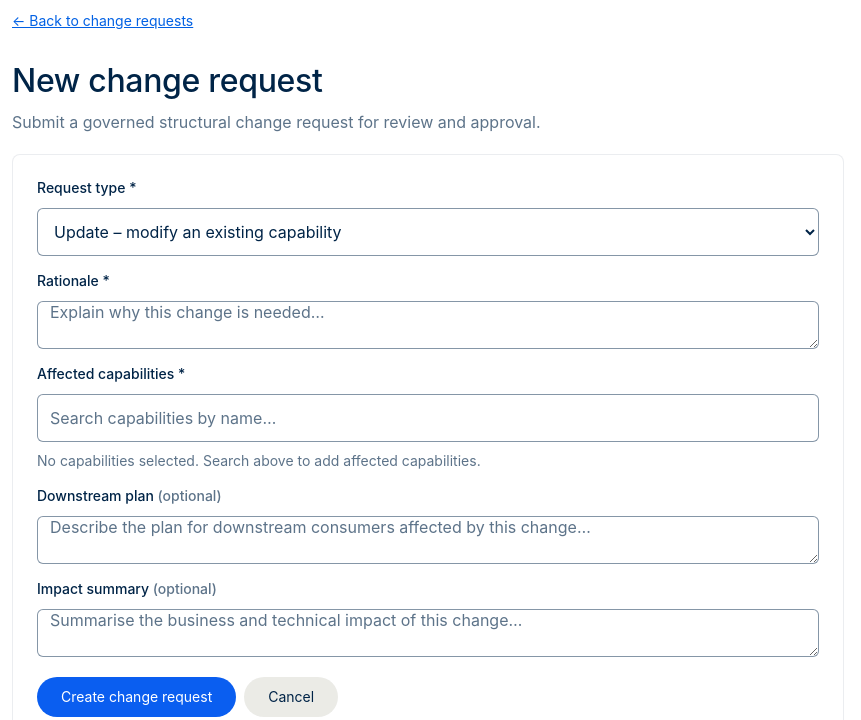
ChangeRequestFormPage › shows validation error when submitting without any selected capabilities
Type "Test rationale" into the text box labelled "Rationale *".
click(428, 325); type("Test rationale")  # box [37,301,819,349]
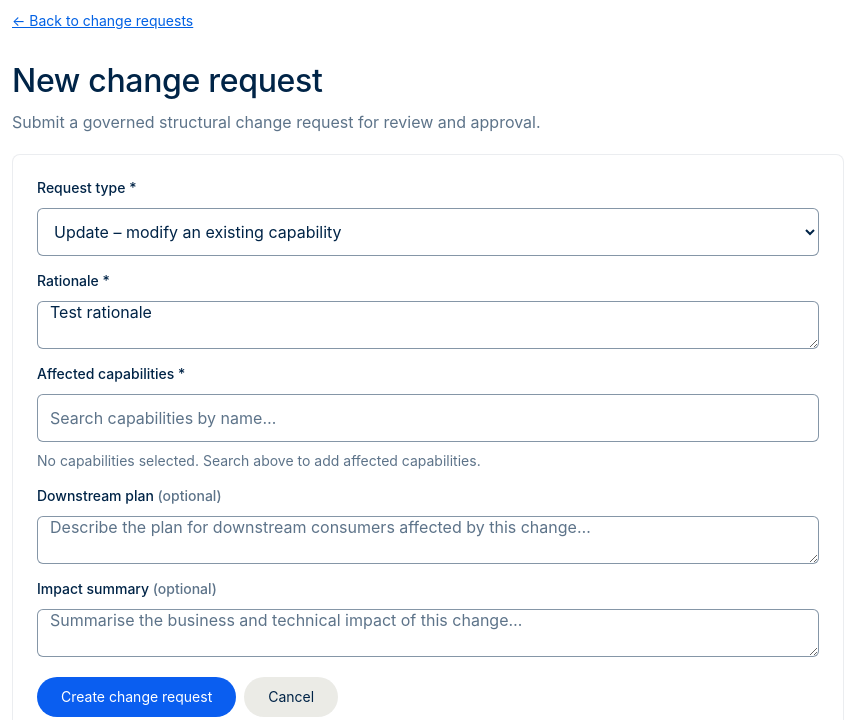
Click the button "Create change request".
click(137, 697)  # box [37,677,236,717]
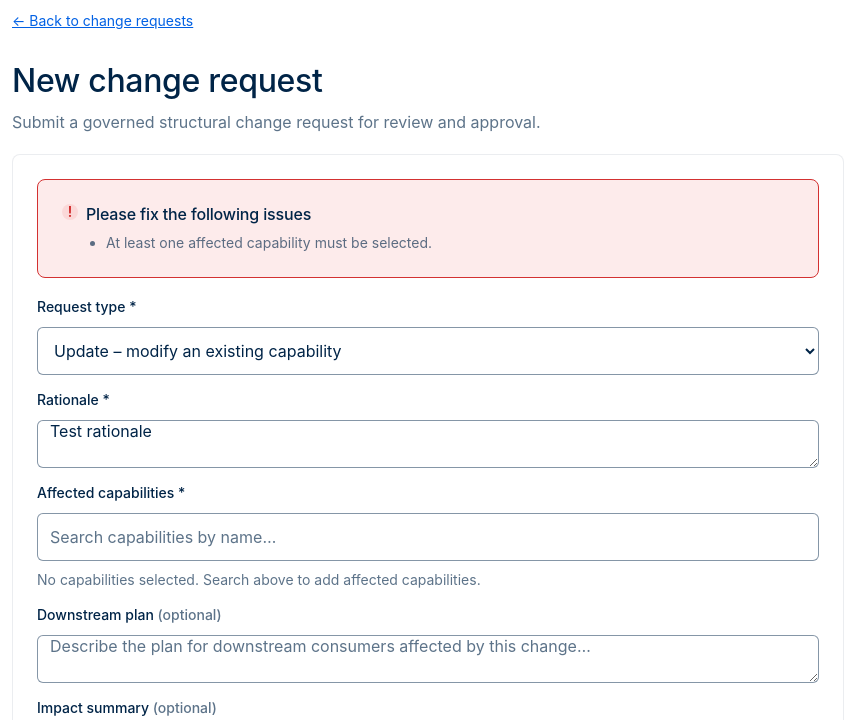
Expected: the list item "At least one affected capability must be selected." is shown, [106,232,432,253]
